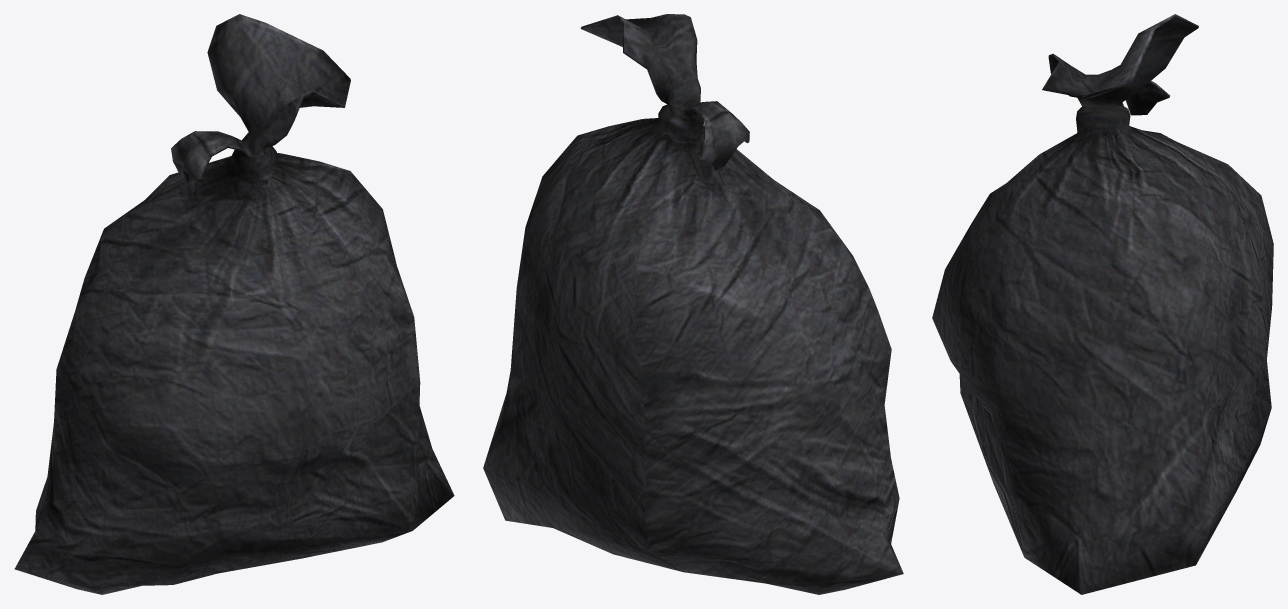
Rendered from garbageBag02.FBX.
3 views of the same model, side by side, from view 1: azimuth 30°, elevation 25°; view 2: azimuth 150°, elevation 25°; view 3: azimuth 270°, elevation 25° (orthographic). The views are drawn at different scales.
Visible parts, largest first — view 1: SM_GarbageBag02; view 2: SM_GarbageBag02; view 3: SM_GarbageBag02.
Boxes of the visible parts, x1,y1,x2,y2 form: SM_GarbageBag02: [14, 14, 454, 594]; SM_GarbageBag02: [483, 14, 903, 594]; SM_GarbageBag02: [932, 14, 1273, 594].
Bounding box in the file's own units: 57.98 × 68.49 × 40.73.
1 material, 1 textured.
